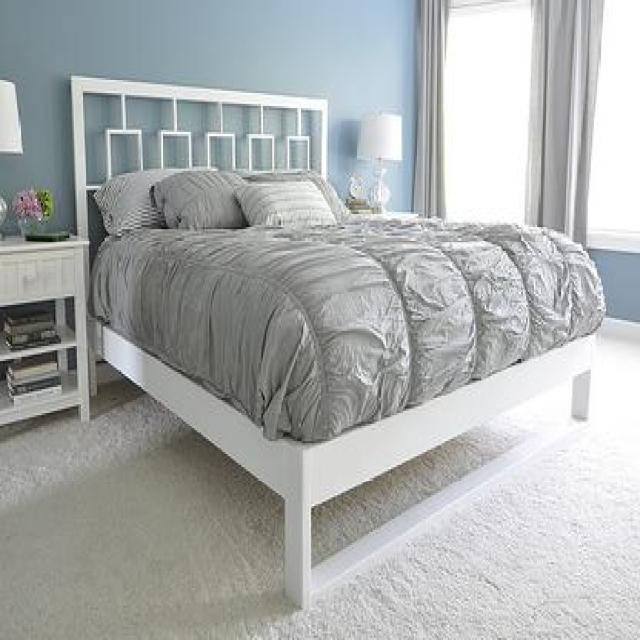bed: (68, 71, 606, 610)
